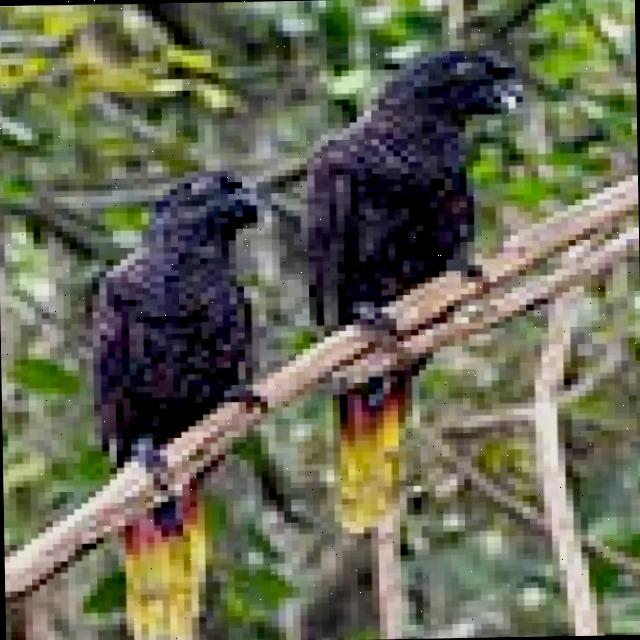Nuri Hitam: (286, 14, 554, 551), (72, 142, 273, 640)
